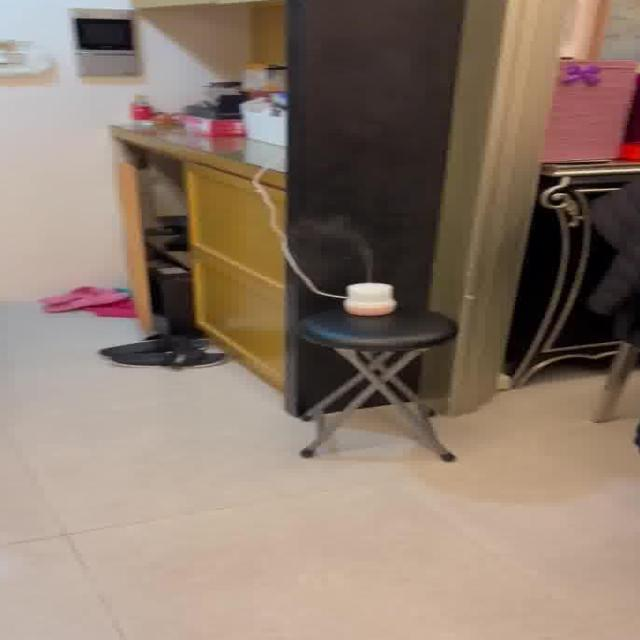fire: (308, 219, 382, 276)
